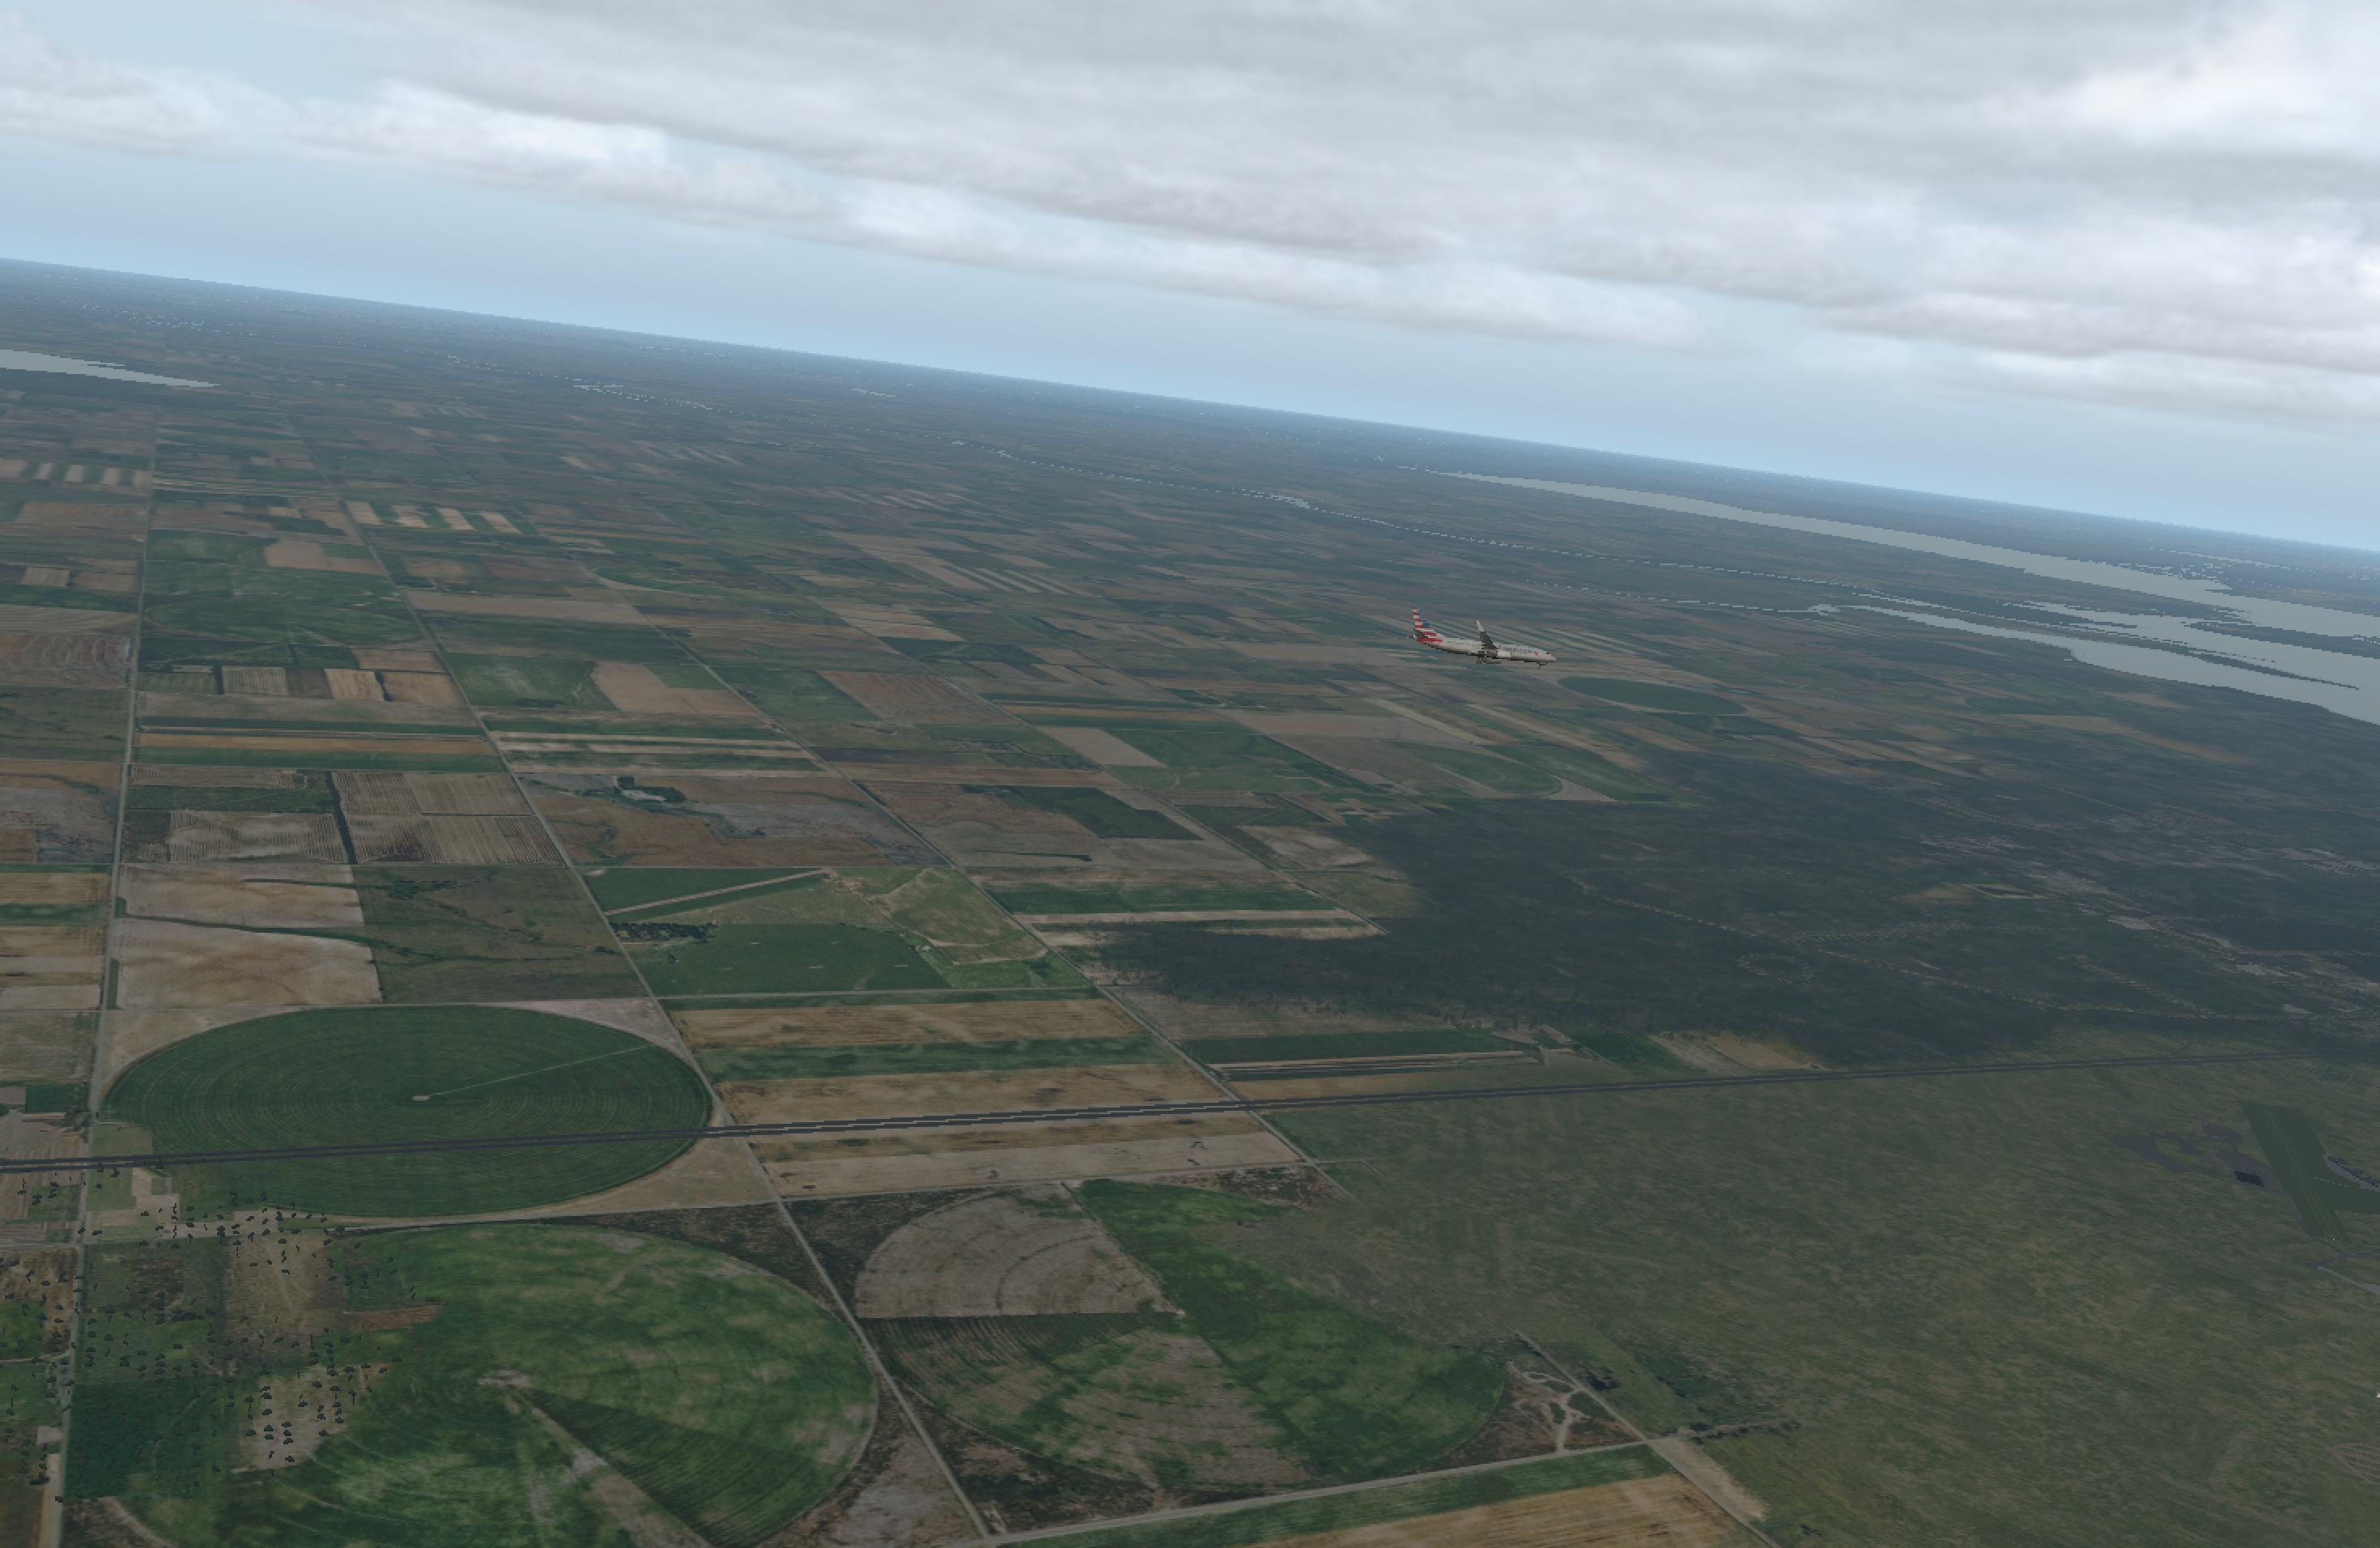aircraft: (1412, 625, 1563, 680)
